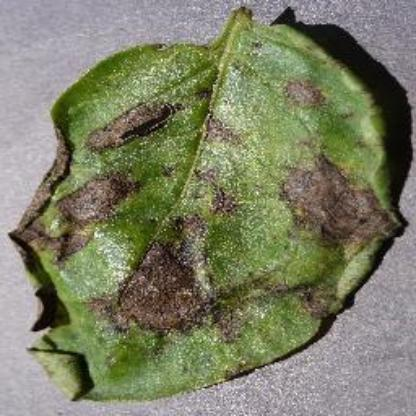Early-Blight: (13, 7, 410, 400)
